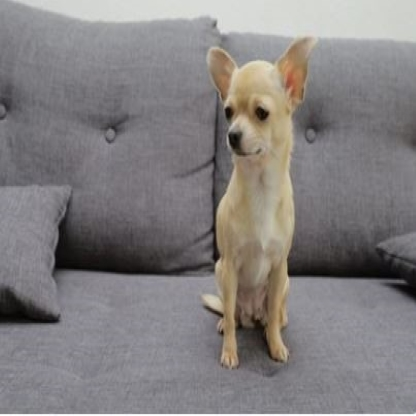chihuahua: (199, 30, 317, 367)
